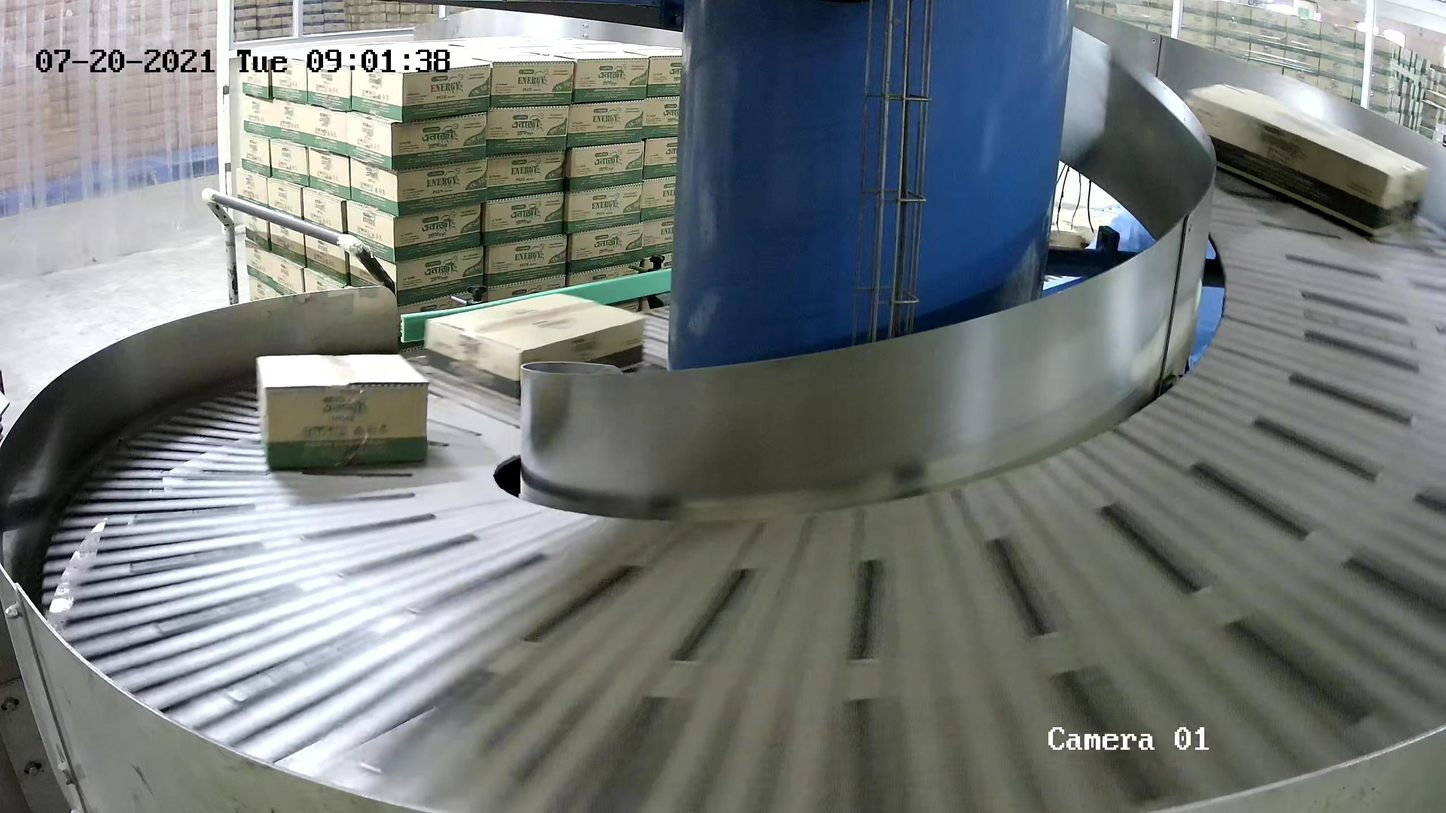Box: (1182, 81, 1430, 238), (422, 291, 648, 405), (255, 353, 431, 468)
